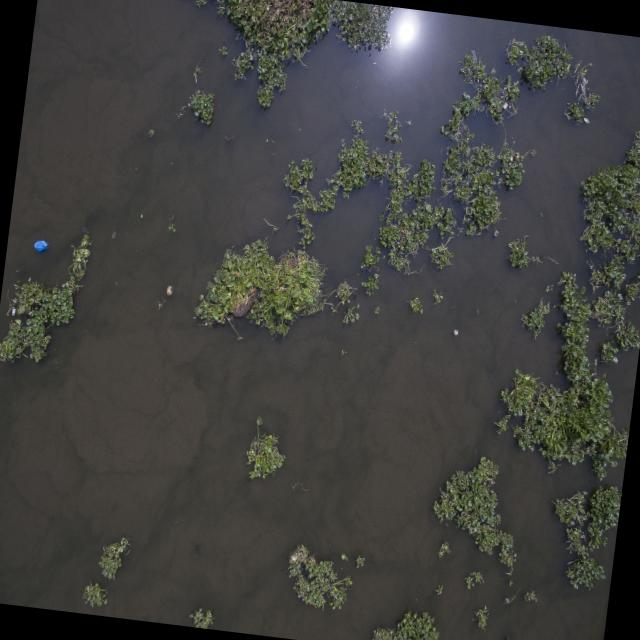Plastic: (32, 238, 49, 252), (452, 329, 458, 336)
